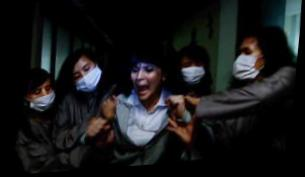NONE: (131, 62, 164, 105)
OK: (231, 45, 263, 86), (181, 60, 207, 90)
WRONG: (71, 59, 104, 95), (30, 81, 58, 113)
